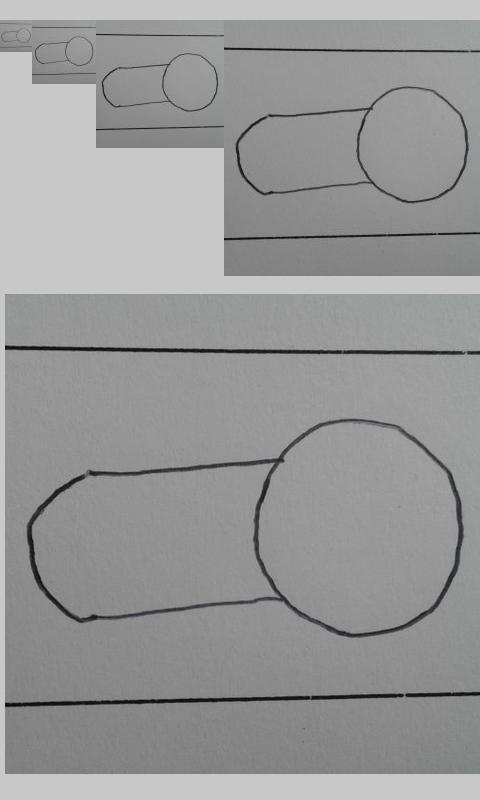switch: (26, 417, 467, 639), (234, 85, 469, 204), (101, 53, 219, 112), (34, 35, 94, 66), (1, 27, 32, 44)
